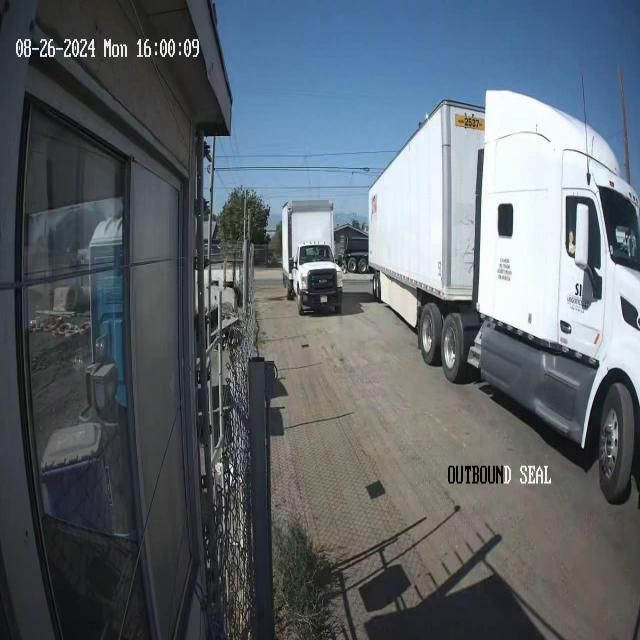TRUCK_IN: (367, 84, 639, 504)
